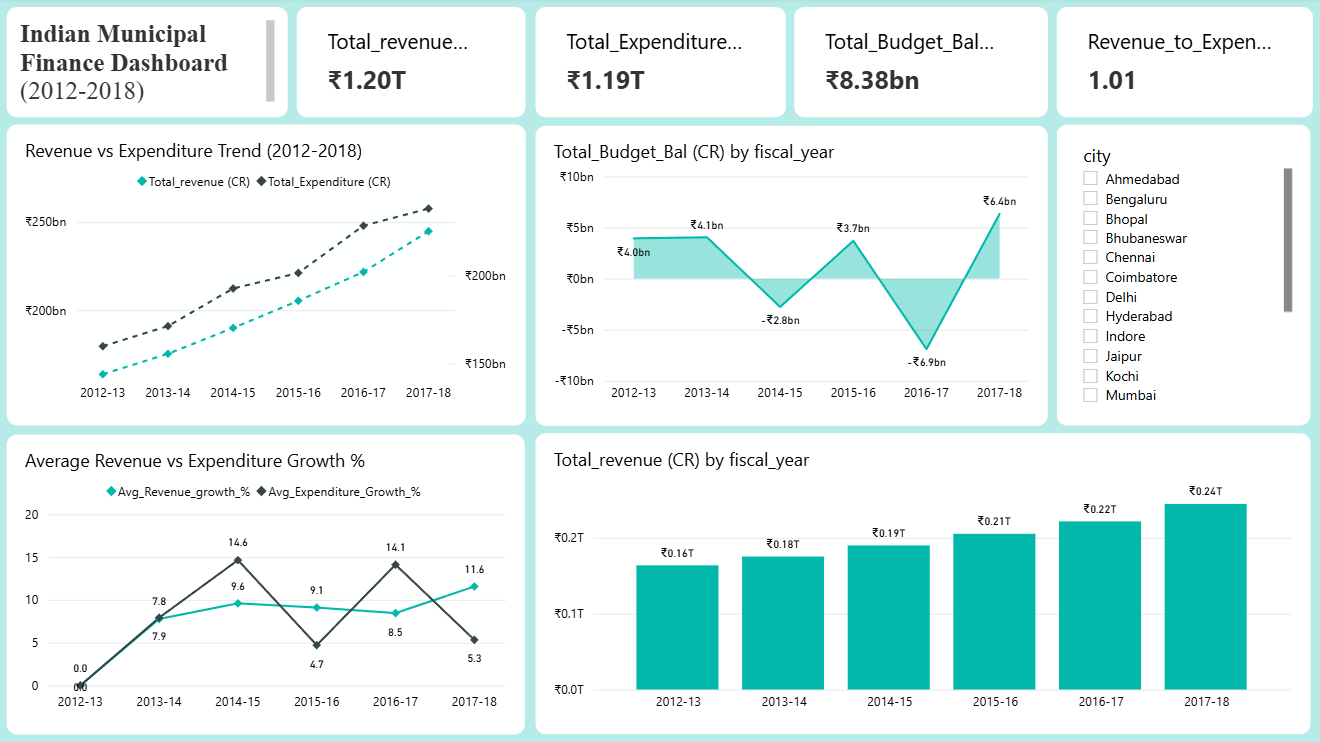

What the dashboard file says about the page in this screenshot:
{"tool":"powerbi","page":{"name":"Overview","canvas":[1280,720],"ordinal":0},"visuals":[{"type":"textbox","box":[8.4,9.7,271.4,106.2],"z":0},{"type":"cardVisual","fields":{"Data":["Indian_Finance.Total_revenue (CR)"]},"box":[288.3,9.7,220.8,106.2],"z":1000},{"type":"cardVisual","fields":{"Data":["Indian_Finance.Total_Expenditure (CR)"]},"box":[518.8,9.7,241.3,106.2],"z":2000},{"type":"cardVisual","fields":{"Data":["Indian_Finance.Total_Budget_Bal (CR)"]},"box":[768.5,9.7,244.9,106.2],"z":3000},{"type":"cardVisual","fields":{"Data":["Indian_Finance.Revenue_to_Expenditure_Ratio"]},"box":[1021.9,9.7,247.3,106.2],"z":4000},{"type":"areaChart","fields":{"Y":["Indian_Finance.Total_Budget_Bal (CR)"],"Category":["Indian_Finance.fiscal_year"]},"box":[518.8,124.3,494.6,289.5],"z":5000},{"type":"clusteredColumnChart","fields":{"Category":["Indian_Finance.fiscal_year"],"Y":["Indian_Finance.Total_revenue (CR)"]},"box":[518.8,421,748,290.8],"z":6000},{"type":"lineChart","title":"Average Revenue vs Expenditure Growth %","fields":{"Category":["Indian_Finance.fiscal_year"],"Y":["Indian_Finance.Avg_Revenue_growth_%","Indian_Finance.Avg_Expenditure_Growth_%"]},"box":[8.6,421.9,500.1,289.8],"z":7000},{"type":"lineChart","title":"Revenue vs Expenditure Trend (2012-2018)","fields":{"Category":["Indian_Finance.fiscal_year"],"Y":["Indian_Finance.Total_revenue (CR)"],"Y2":["Indian_Finance.Total_Expenditure (CR)"]},"box":[8.4,123.1,500.7,290.8],"z":9000},{"type":"slicer","fields":{"Values":["Indian_Finance.city"]},"box":[1021.9,123.1,244.9,290.8],"z":11000}]}

Visuals, with their boxes in screenshot pixels (x1, y1, x2, y2), scaled from the page's 1280x720 canvas onto the 1320x742 screenshot:
textbox: [left=9, top=10, right=289, bottom=119]
cardVisual - Indian_Finance.Total_revenue (CR): [left=297, top=10, right=525, bottom=119]
cardVisual - Indian_Finance.Total_Expenditure (CR): [left=535, top=10, right=784, bottom=119]
cardVisual - Indian_Finance.Total_Budget_Bal (CR): [left=793, top=10, right=1045, bottom=119]
cardVisual - Indian_Finance.Revenue_to_Expenditure_Ratio: [left=1054, top=10, right=1309, bottom=119]
areaChart - Indian_Finance.Total_Budget_Bal (CR) x Indian_Finance.fiscal_year: [left=535, top=128, right=1045, bottom=426]
clusteredColumnChart - Indian_Finance.fiscal_year x Indian_Finance.Total_revenue (CR): [left=535, top=434, right=1306, bottom=734]
"Average Revenue vs Expenditure Growth %" lineChart: [left=9, top=435, right=525, bottom=733]
"Revenue vs Expenditure Trend (2012-2018)" lineChart: [left=9, top=127, right=525, bottom=427]
slicer - Indian_Finance.city: [left=1054, top=127, right=1306, bottom=427]
